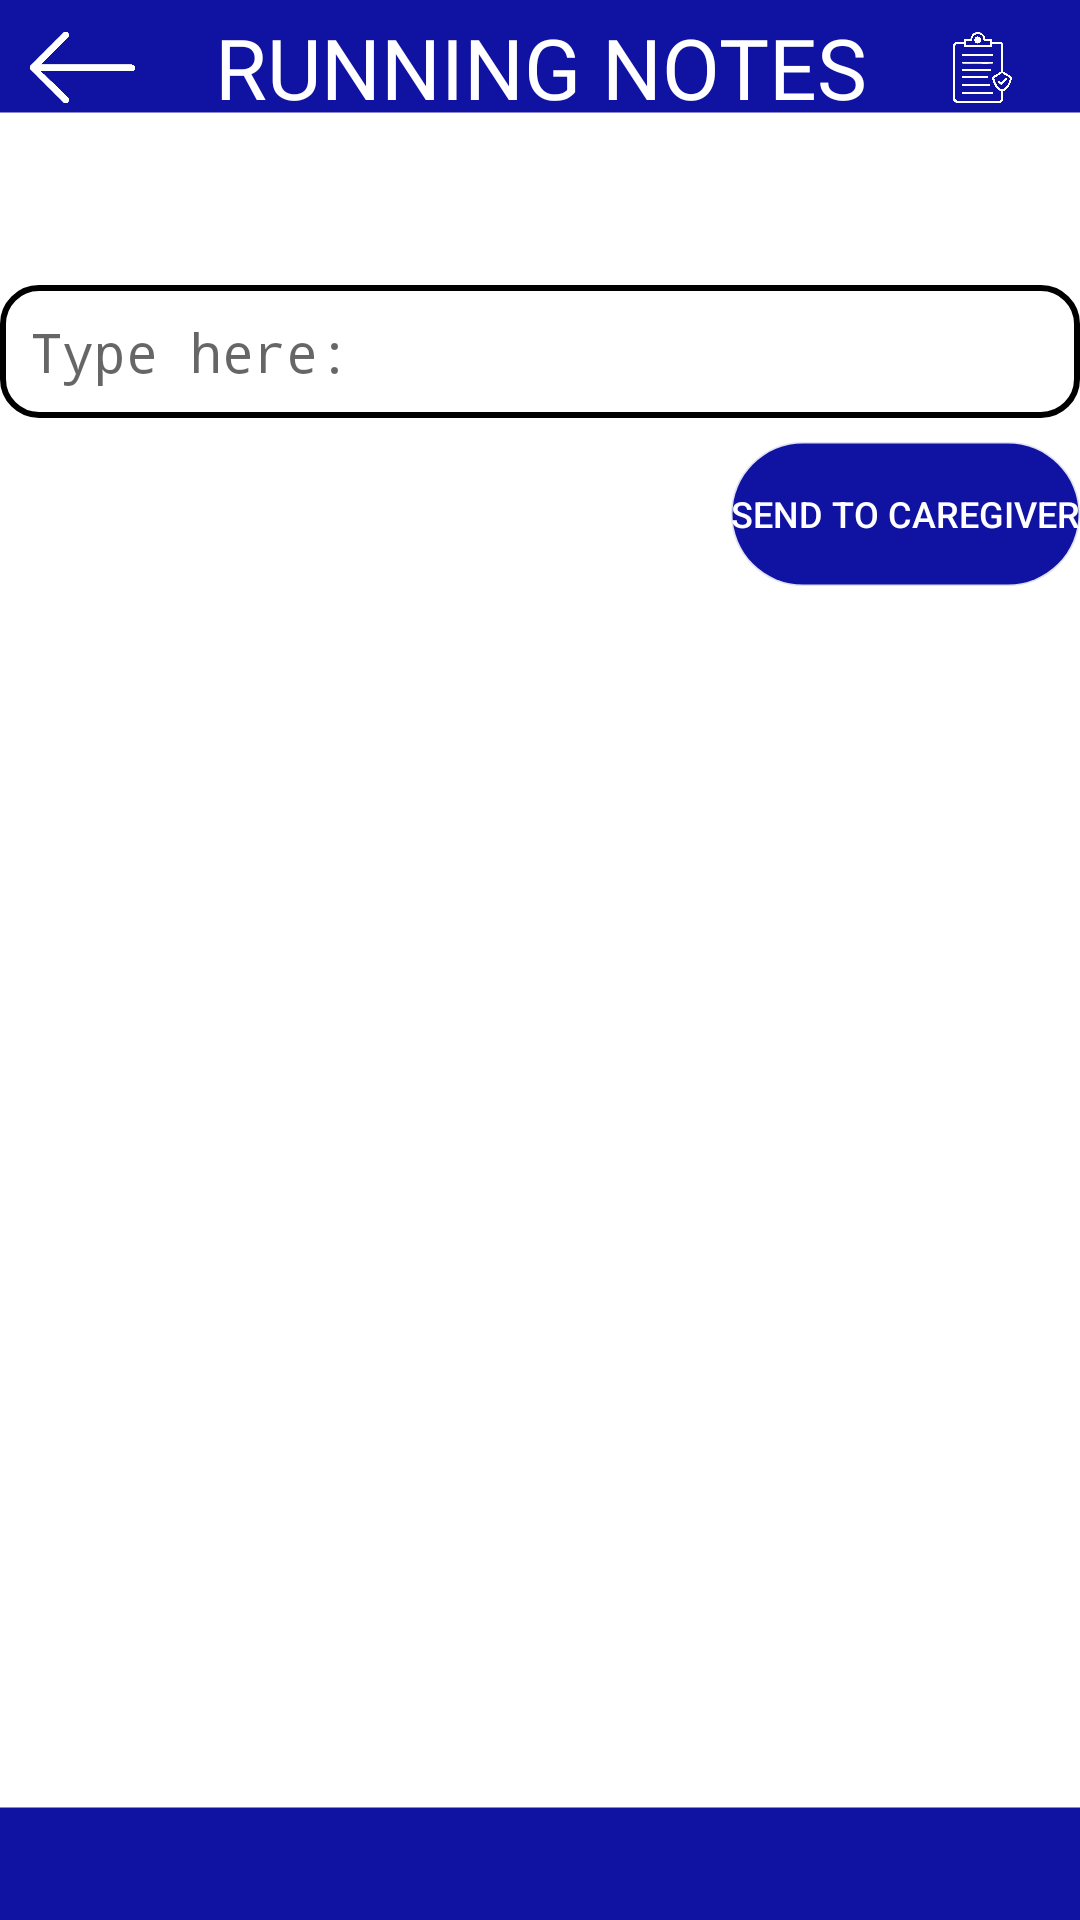

Where to tap for icons on this 1080*1920 app screen, as [x,y]:
back: [82,67]
